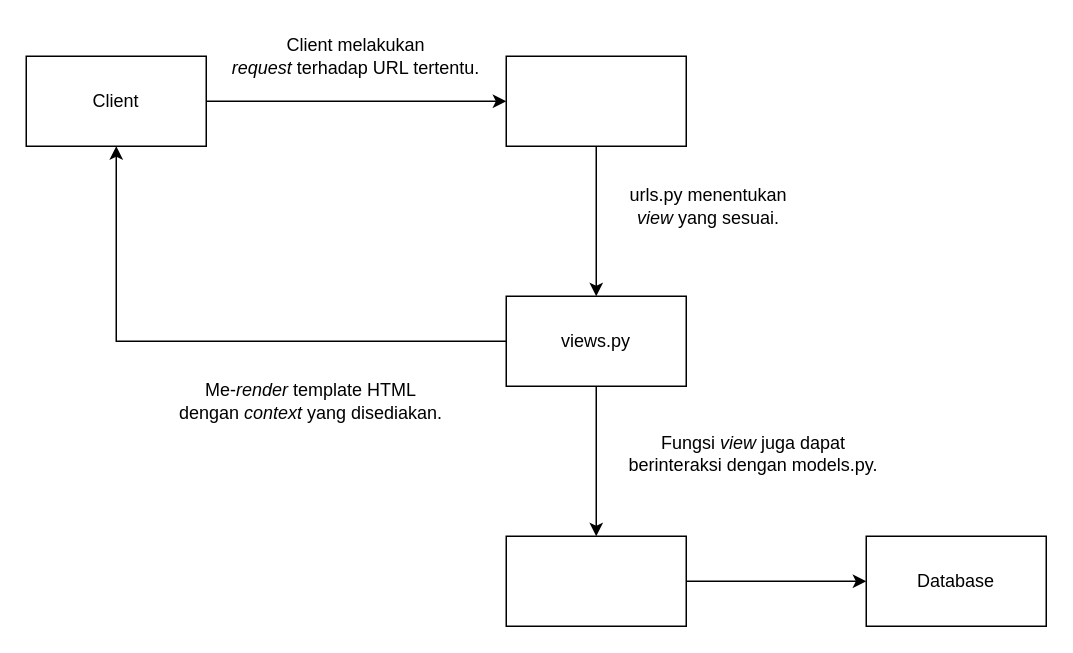
This 1073x653 diagram has some shape labels left out. Each missing label, with the centre of its shape:
"models.py" goes at (x=595, y=580).
"urls.py" goes at (x=595, y=100).
